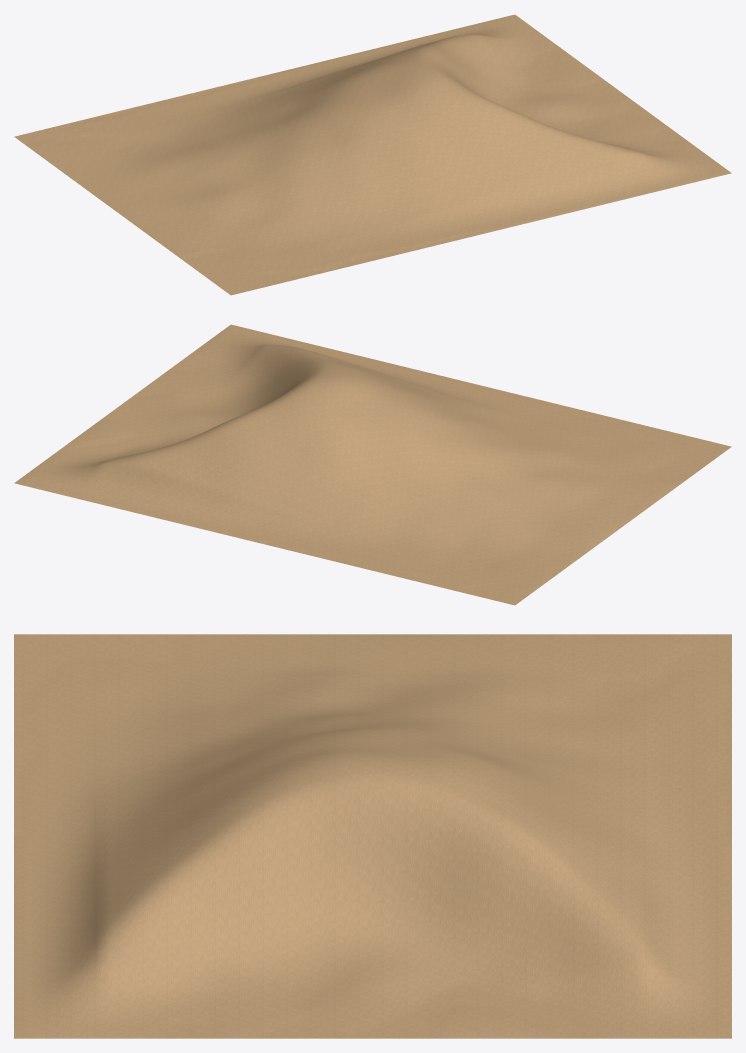
File: kum_tepesi_buyuk.gltf
3 renders of one model, top to bottom at view 1: azimuth 30°, elevation 25°; view 2: azimuth 150°, elevation 25°; view 3: azimuth 270°, elevation 25°, orthographic. The views are drawn at different scales.
Visible parts, largest first — view 1: kum_tepesi_buyuk; view 2: kum_tepesi_buyuk; view 3: kum_tepesi_buyuk.
Boxes of the visible parts, x1,y1,x2,y2 form: kum_tepesi_buyuk: (14, 14, 731, 295); kum_tepesi_buyuk: (14, 324, 731, 605); kum_tepesi_buyuk: (14, 634, 731, 1038).
Size of what is drawn, in the model's own units: 80 by 10.23 by 60.
Materials: 1 (1 with a texture image).
